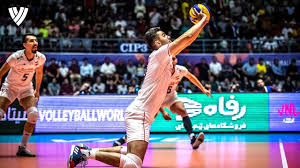ball: (188, 3, 210, 26)
